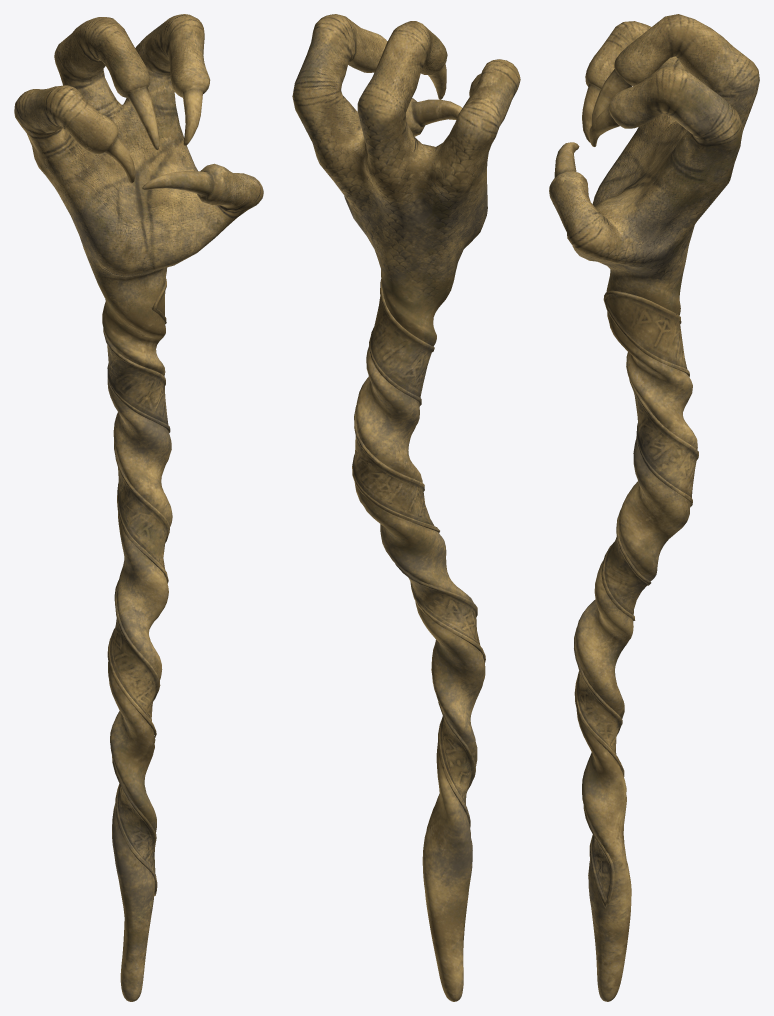
File: urfin_juice_golden_scepter.glb
The picture shows the model from 3 angles, left to right: view 1: azimuth 30°, elevation 25°; view 2: azimuth 150°, elevation 25°; view 3: azimuth 270°, elevation 25°; orthographic projection. The views are drawn at different scales.
Parts seen in each view (by area): view 1: Object_2; view 2: Object_2; view 3: Object_2.
Boxes of the visible parts, left/top/right/bottom form: Object_2: left=14, top=14, right=263, bottom=1001; Object_2: left=292, top=14, right=520, bottom=1001; Object_2: left=549, top=14, right=759, bottom=1001.
Bounding box in the file's own units: 2.71 × 12.43 × 2.4.
Materials: 2 (2 with a texture image).
